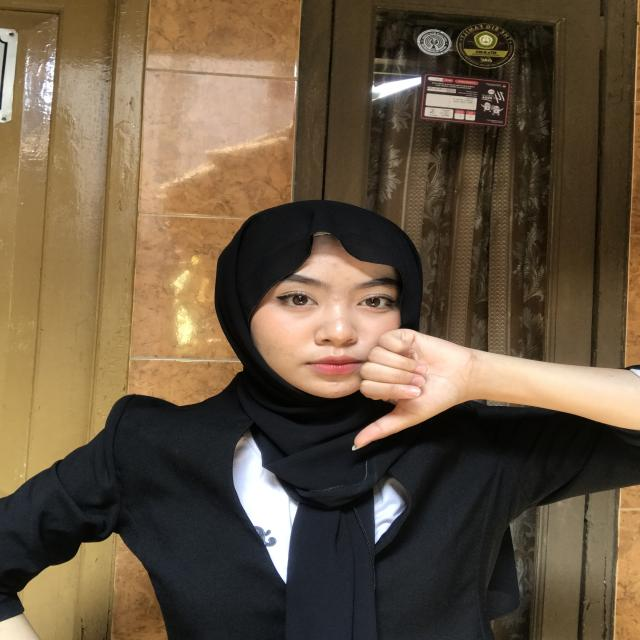sedih: (322, 309, 486, 460)
